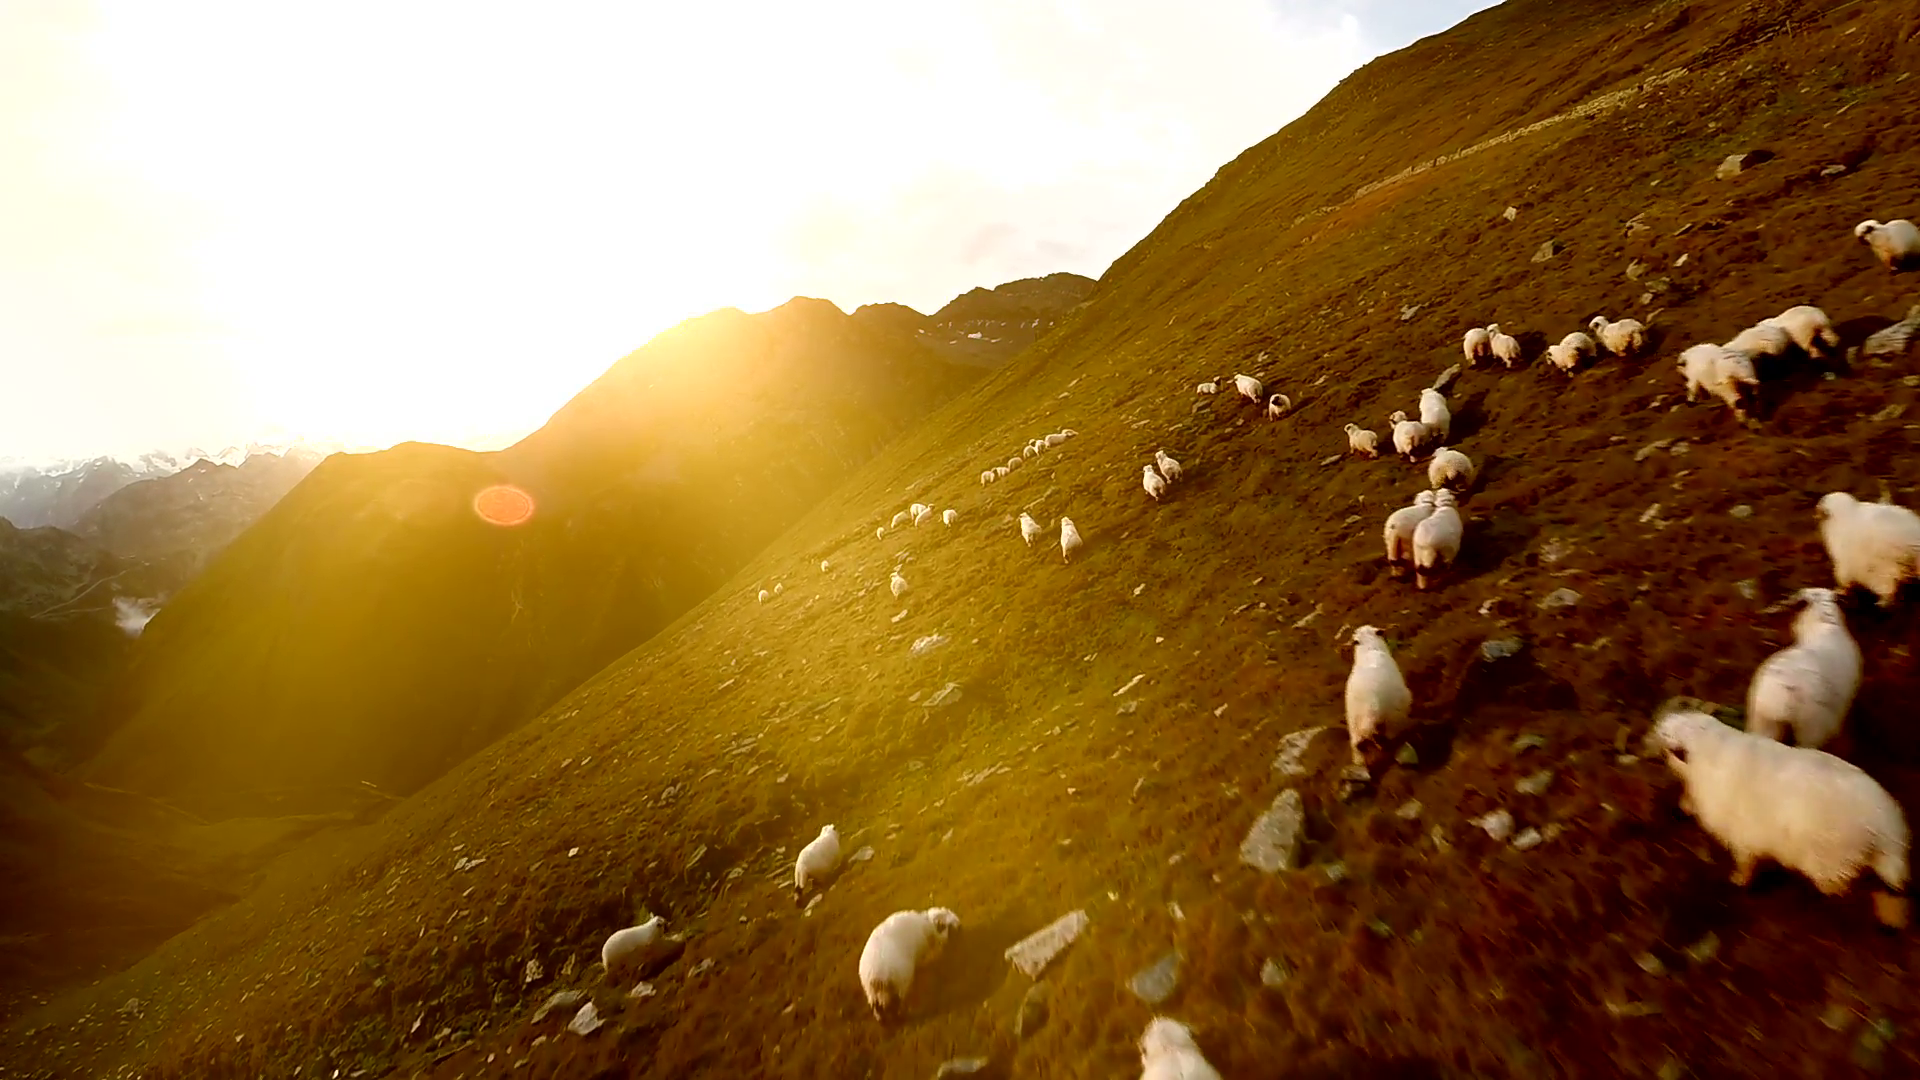sheep: (1640, 702, 1913, 903), (1741, 582, 1865, 765), (1341, 618, 1424, 775), (860, 905, 967, 1026), (1811, 491, 1920, 605), (1677, 340, 1760, 422), (597, 909, 688, 982), (1756, 303, 1841, 369), (1410, 488, 1468, 574), (1383, 491, 1435, 566), (1855, 216, 1920, 272), (795, 822, 845, 887), (1425, 444, 1476, 501), (1588, 315, 1647, 357), (1487, 322, 1524, 371), (1420, 386, 1452, 440), (1389, 410, 1423, 459), (1058, 516, 1087, 563), (1464, 326, 1493, 369), (1545, 342, 1580, 376), (1346, 421, 1377, 458), (1561, 331, 1598, 359), (1236, 371, 1263, 401), (1142, 464, 1164, 497), (1156, 448, 1180, 479), (1021, 512, 1040, 545), (1269, 392, 1291, 419), (887, 572, 909, 601), (914, 502, 938, 527), (1197, 375, 1225, 394), (1047, 429, 1071, 447), (891, 510, 909, 529), (981, 468, 1000, 485), (1029, 438, 1044, 458), (756, 588, 770, 605), (993, 463, 1011, 476), (942, 513, 959, 524), (774, 582, 785, 599), (1011, 455, 1023, 469), (877, 527, 887, 541), (823, 559, 829, 574)
